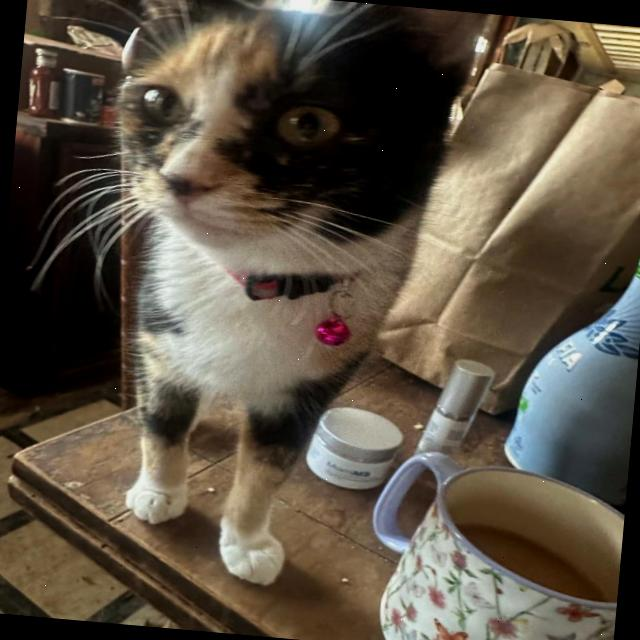calico_cat: (84, 0, 535, 287)
